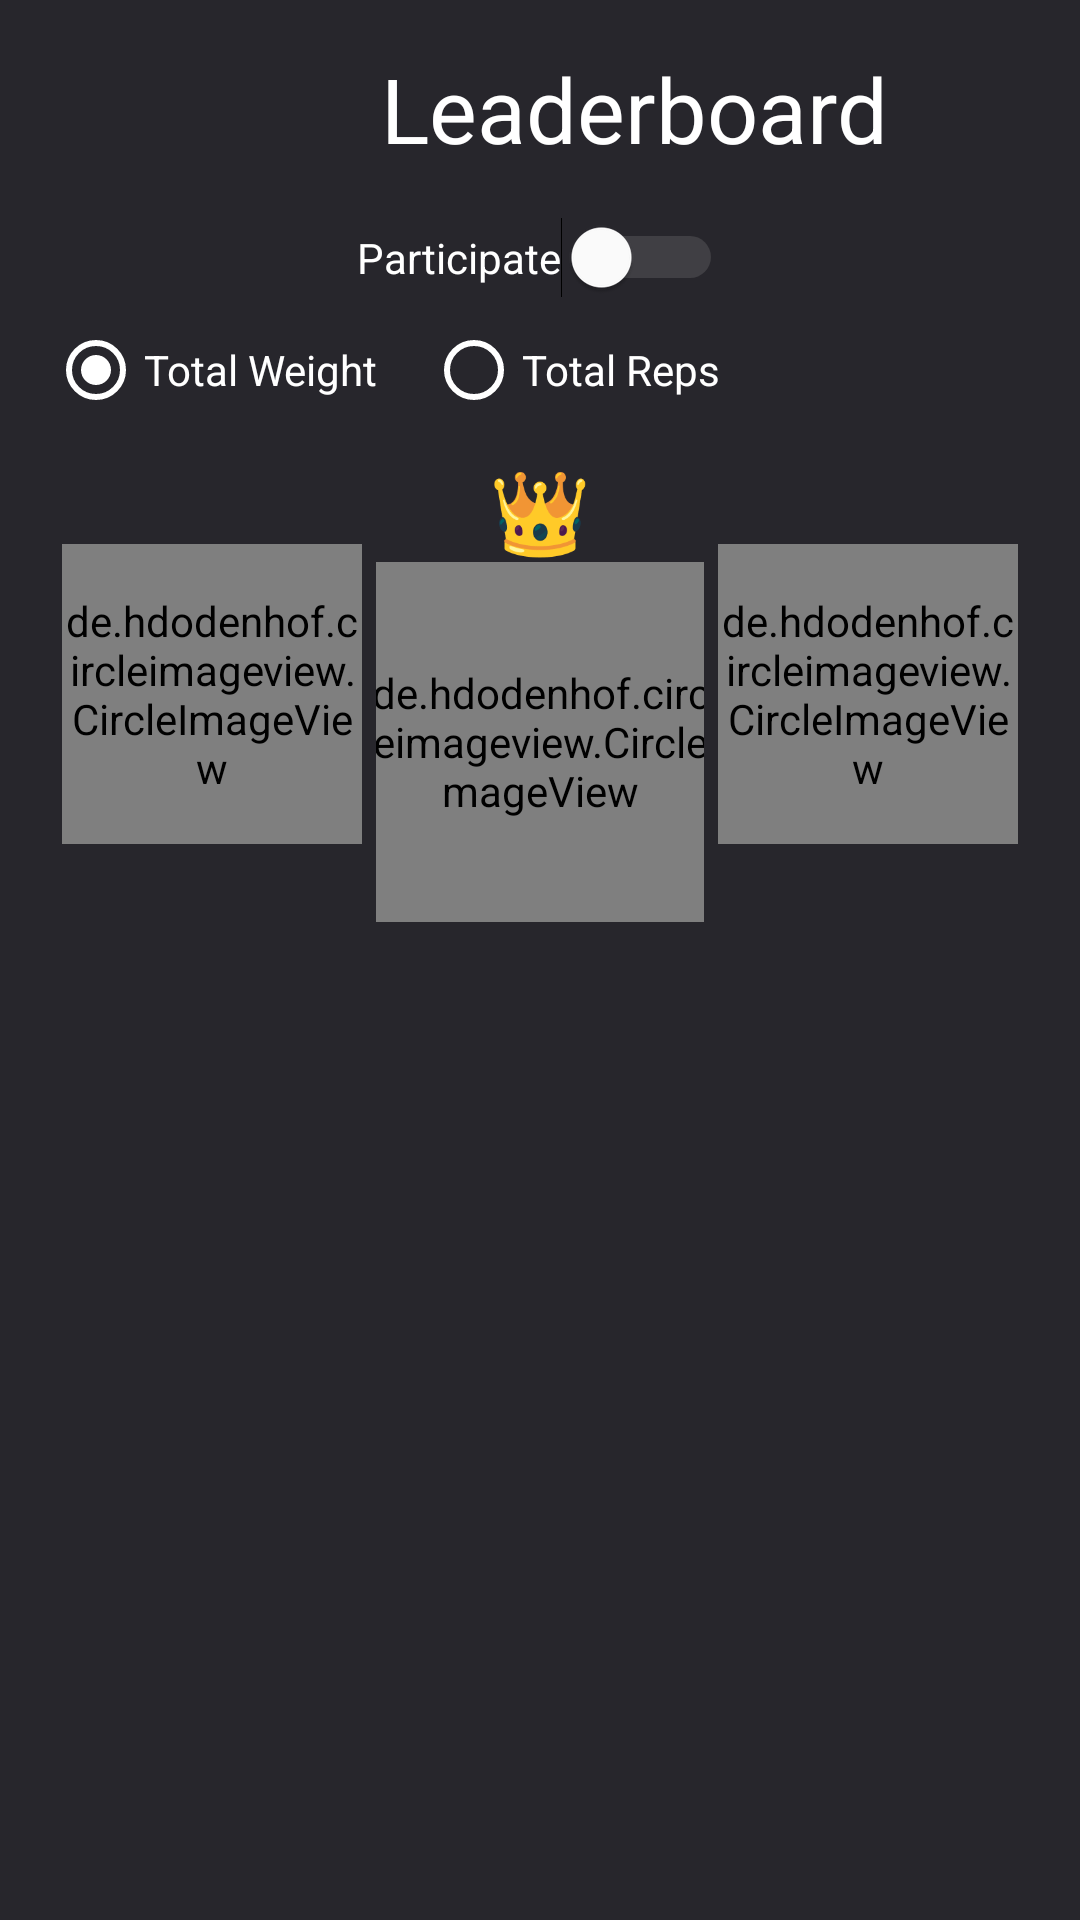

Icons on this 1080px×1920px Android screen, each with the point to tap as (x=x, y=y):
crown: (x=540, y=515)
